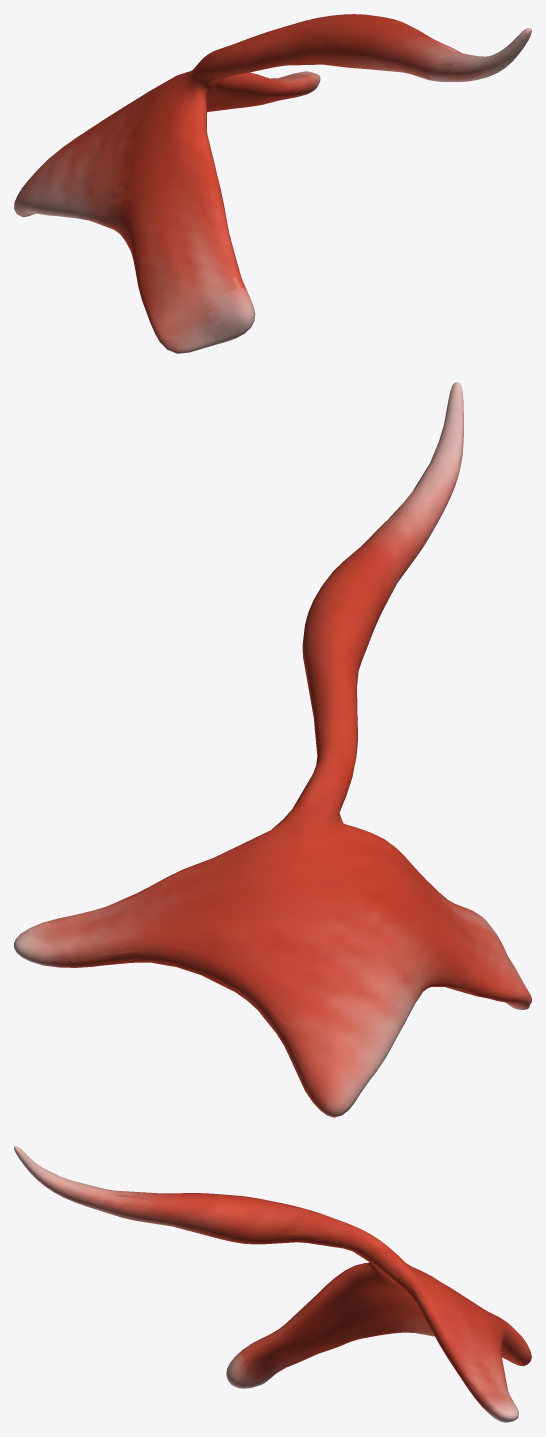
The model's file is L Internal Obturator.fbx.
3 views of the same model, one above another, from view 1: azimuth 30°, elevation 25°; view 2: azimuth 150°, elevation 25°; view 3: azimuth 270°, elevation 25° (orthographic). The views are drawn at different scales.
Parts seen in each view (by area): view 1: L Internal Obturator, L Internal Obturator low; view 2: L Internal Obturator, L Internal Obturator low; view 3: L Internal Obturator, L Internal Obturator low.
Boxes of the visible parts, x1,y1,x2,y2 form: L Internal Obturator: [14, 14, 531, 353]; L Internal Obturator low: [16, 16, 520, 352]; L Internal Obturator: [14, 382, 531, 1117]; L Internal Obturator low: [14, 402, 531, 1115]; L Internal Obturator: [14, 1146, 531, 1422]; L Internal Obturator low: [22, 1156, 531, 1418].
Size of the model in its own units: 16.35 by 19.81 by 29.24.
